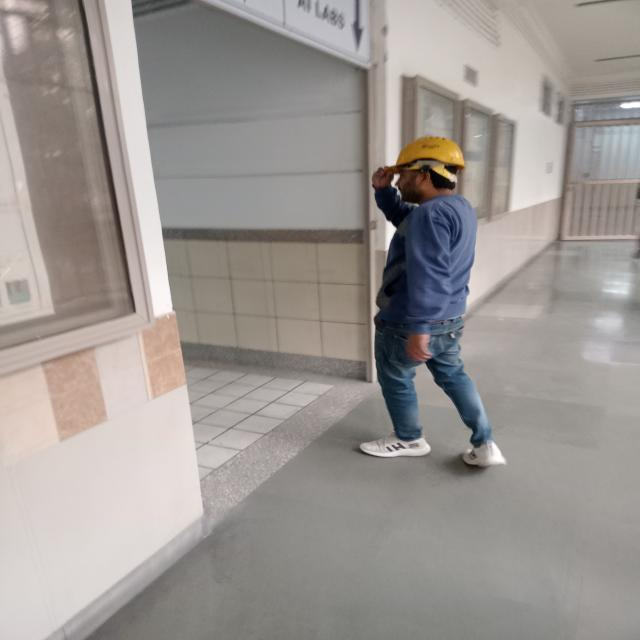no jacket: (358, 128, 496, 472)
